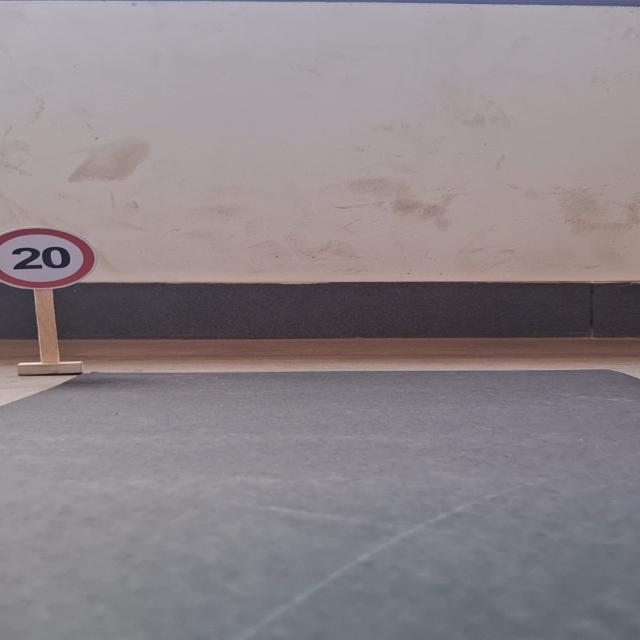Speed20: (0, 222, 99, 292)
